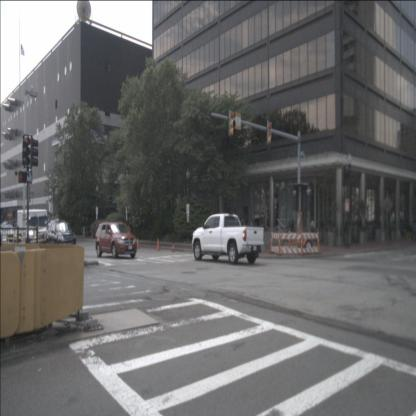movable_object-trafficcone: (316, 228, 322, 255), (269, 229, 275, 254), (287, 227, 292, 255), (277, 230, 282, 255), (300, 229, 304, 256), (156, 237, 160, 251), (136, 237, 140, 250), (171, 243, 175, 253)
vehicle-car: (95, 222, 137, 258), (46, 221, 76, 247), (0, 224, 18, 247)
vehicle-truck: (192, 212, 265, 264), (17, 209, 48, 247)
